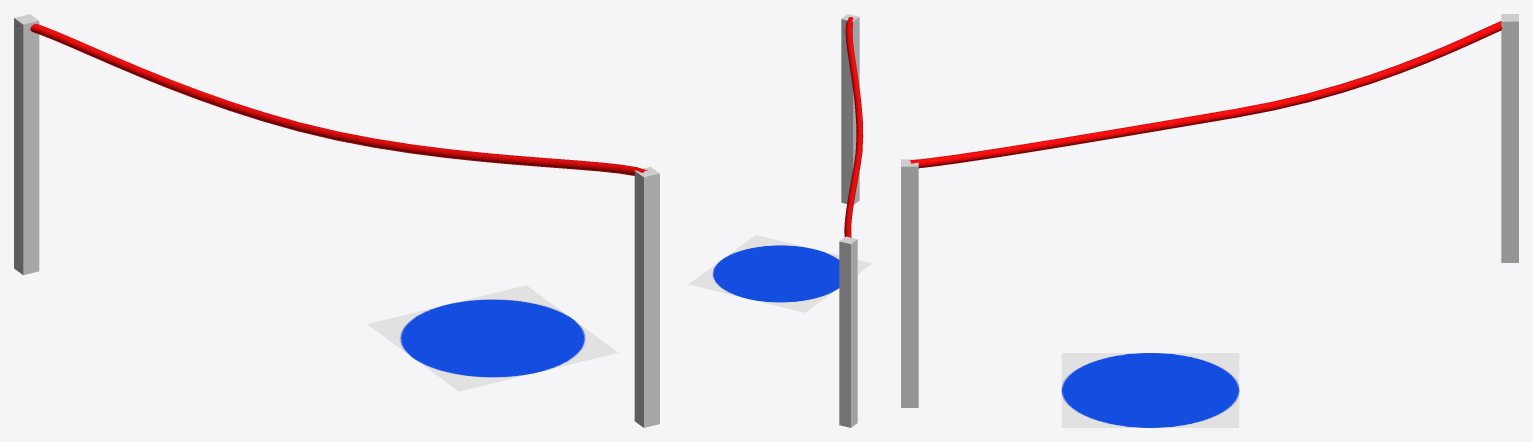
The model's file is Hook_Test.glb.
3 renders of one model, left to right at view 1: azimuth 30°, elevation 25°; view 2: azimuth 150°, elevation 25°; view 3: azimuth 270°, elevation 25°, orthographic. The views are drawn at different scales.
Parts seen in each view (by area): view 1: Plane.001, Cube.001, Cube, BézierCurve; view 2: Plane.001, Cube, Cube.001, BézierCurve; view 3: Plane.001, BézierCurve, Cube, Cube.001.
Part boxes in pixels (x1=…): Plane.001: x1=367, y1=285, x2=618, y2=391; Cube.001: x1=634, y1=166, x2=659, y2=427; Cube: x1=14, y1=14, x2=39, y2=275; BézierCurve: x1=17, y1=24, x2=647, y2=175; Plane.001: x1=688, y1=235, x2=872, y2=312; Cube: x1=839, y1=236, x2=857, y2=427; Cube.001: x1=841, y1=14, x2=859, y2=204; BézierCurve: x1=844, y1=17, x2=863, y2=237; Plane.001: x1=1061, y1=353, x2=1239, y2=427; BézierCurve: x1=909, y1=21, x2=1501, y2=168; Cube: x1=1501, y1=14, x2=1518, y2=262; Cube.001: x1=901, y1=159, x2=918, y2=407.
Size of the model in its own units: 4.6 by 3.02 by 6.96.
Materials: 2 (1 with a texture image).
